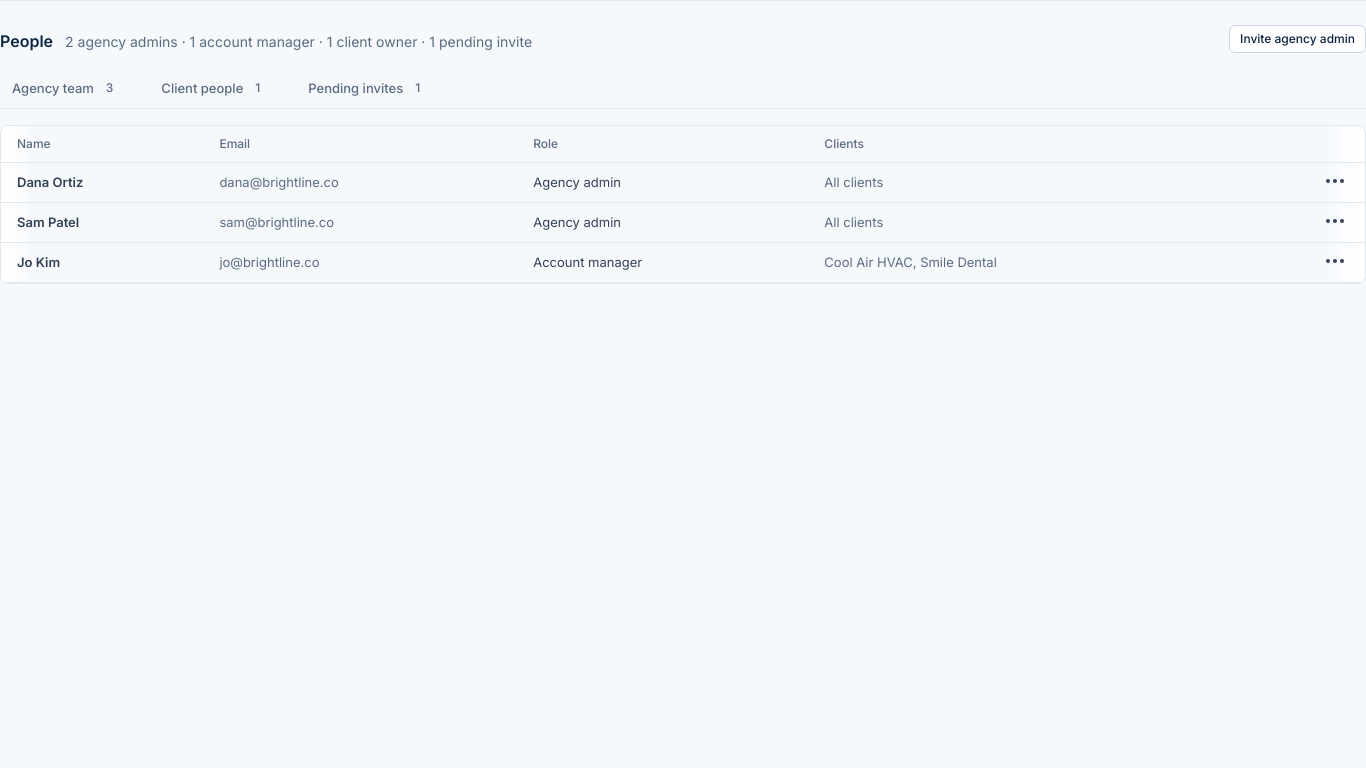
Test: PeopleSection › change role confirms with the mockup copy, then posts; a refusal stays inline in the dialog
Press Enter in the button named "Actions for Dana Ortiz", box x1=1321 y1=167 x2=1349 y2=195
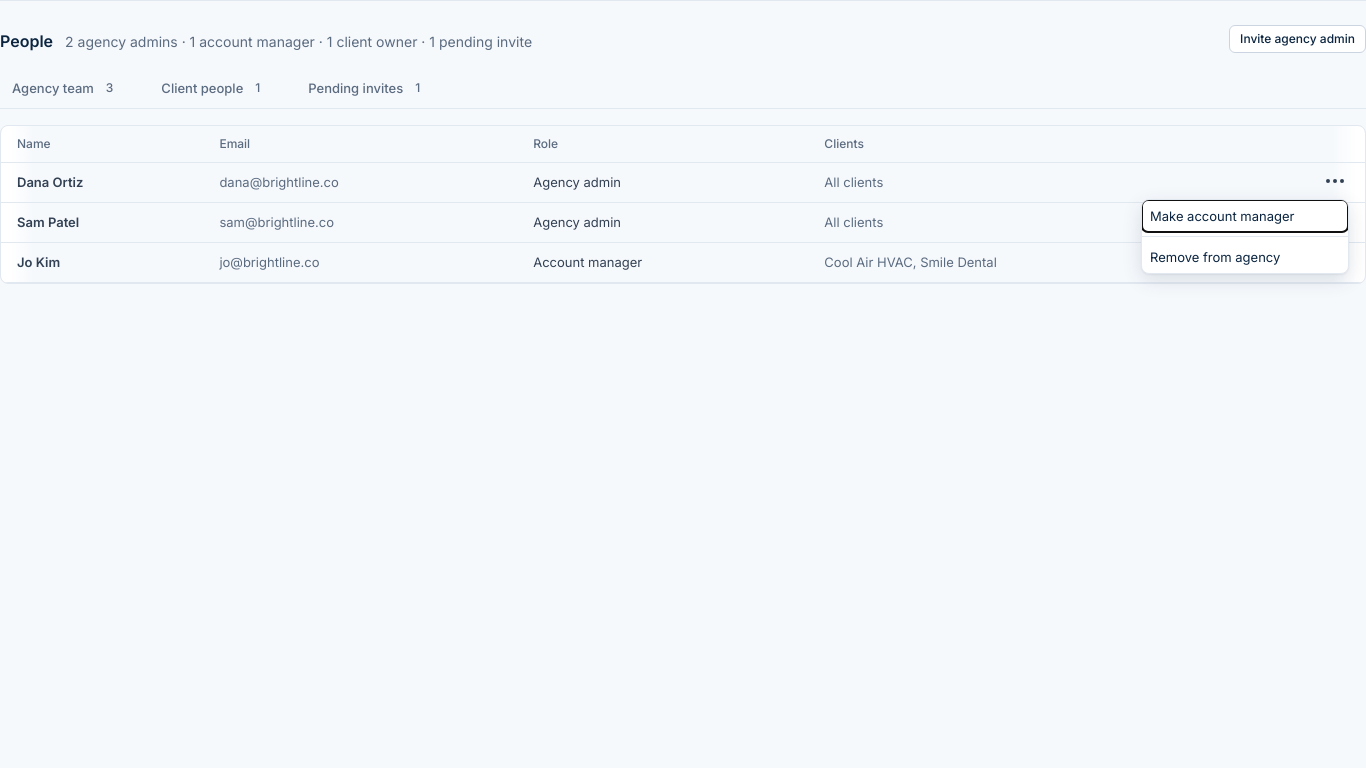
Click the menu item "Make account manager" at (1222, 216), box x1=1150 y1=208 x2=1294 y2=224
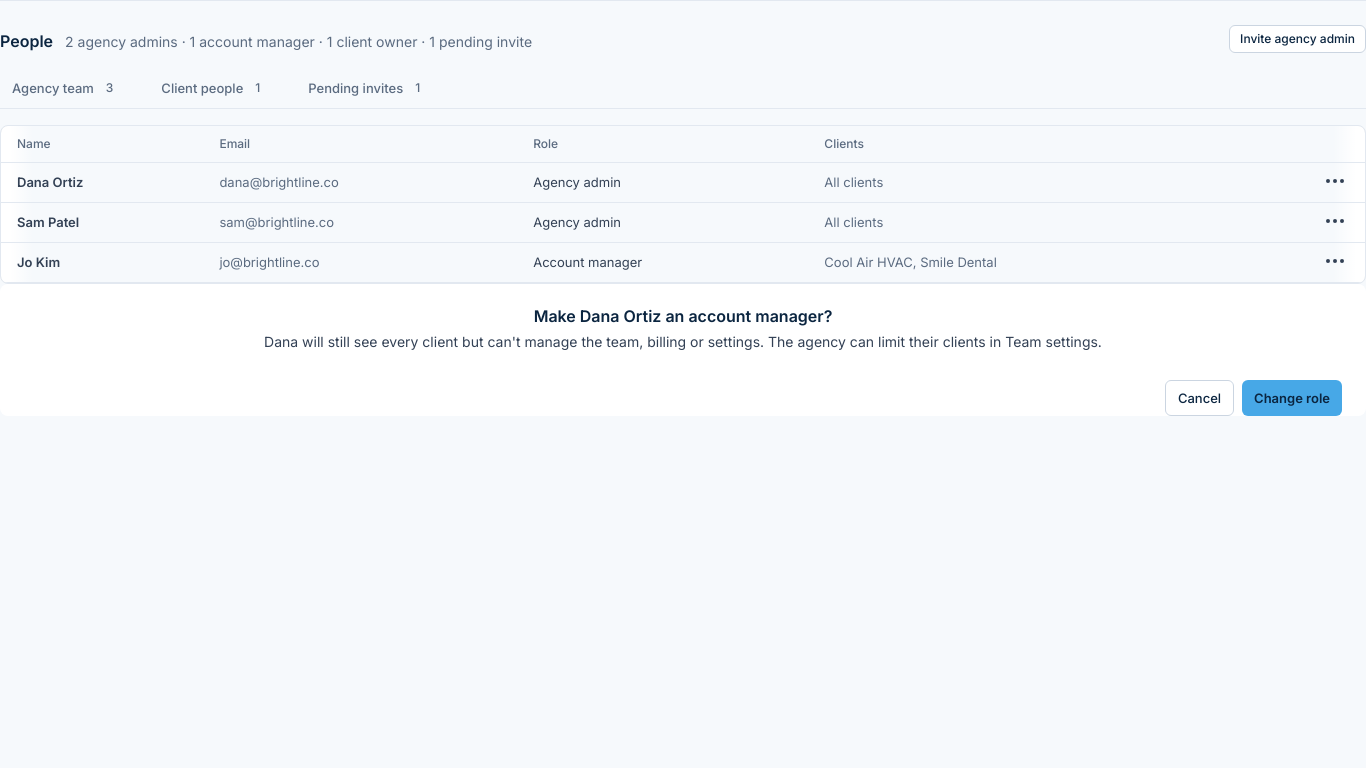
Now the dialog "Make Dana Ortiz an account manager?" shows "Dana will still see every client but can't manage the team, billing or settings. The agency can limit their clients in Team settings.", box x1=264 y1=332 x2=1102 y2=350
Click the button "Change role" at (1292, 398), box x1=1242 y1=380 x2=1342 y2=416
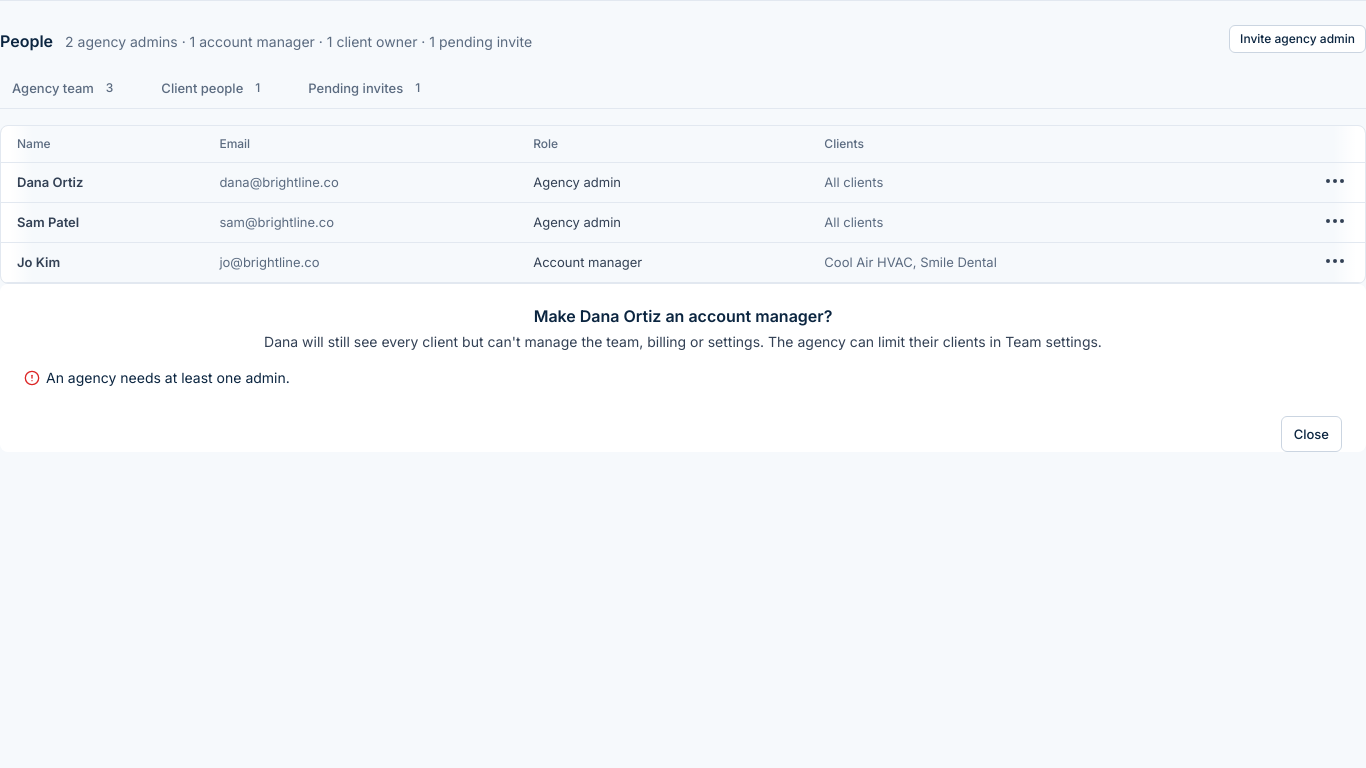
Now the button "Close" is shown, box x1=1281 y1=416 x2=1342 y2=452
Now the message reads "An agency needs at least one admin.", box x1=46 y1=368 x2=290 y2=386
Now the button "Change role" is gone
